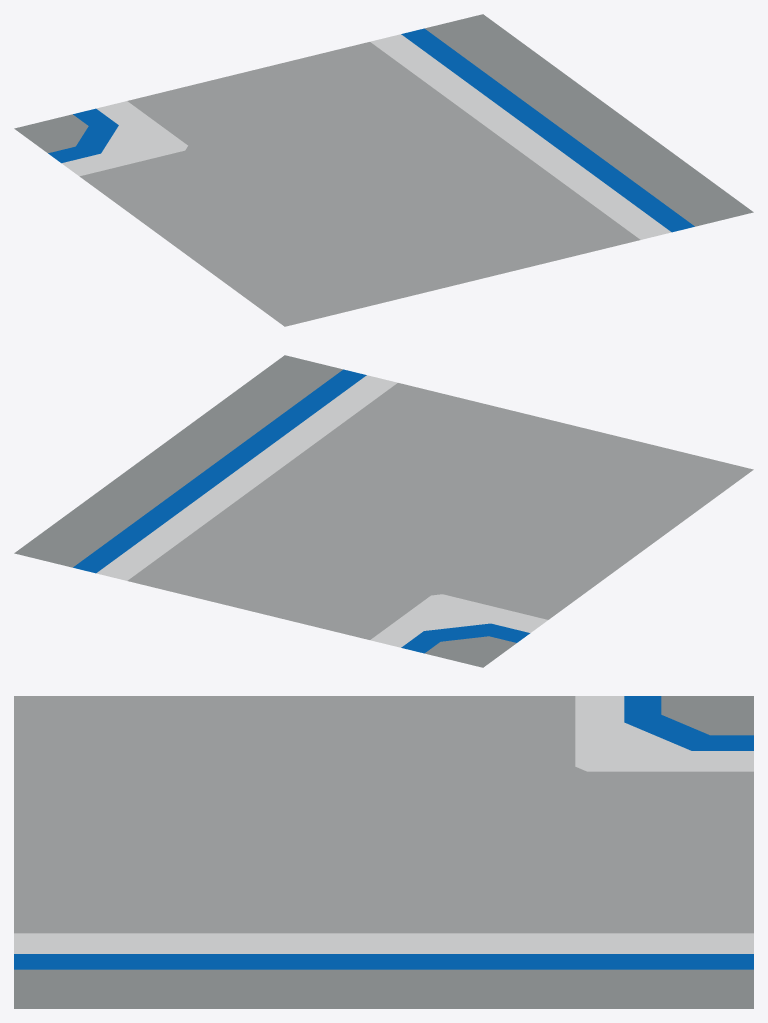
Rendered from Ceiling_type_A_026.003.fbx.
3 renders of one model, top to bottom at view 1: azimuth 30°, elevation 25°; view 2: azimuth 150°, elevation 25°; view 3: azimuth 270°, elevation 25°, orthographic. The views are drawn at different scales.
Parts seen in each view (by area): view 1: Ceiling_type_A_026.003; view 2: Ceiling_type_A_026.003; view 3: Ceiling_type_A_026.003.
Boxes of the visible parts, left/top/right/bottom form: Ceiling_type_A_026.003: left=14, top=14, right=753, bottom=326; Ceiling_type_A_026.003: left=14, top=355, right=753, bottom=667; Ceiling_type_A_026.003: left=14, top=696, right=753, bottom=1008.
Size of the model in its own units: 400 by 400 by 6.18.
